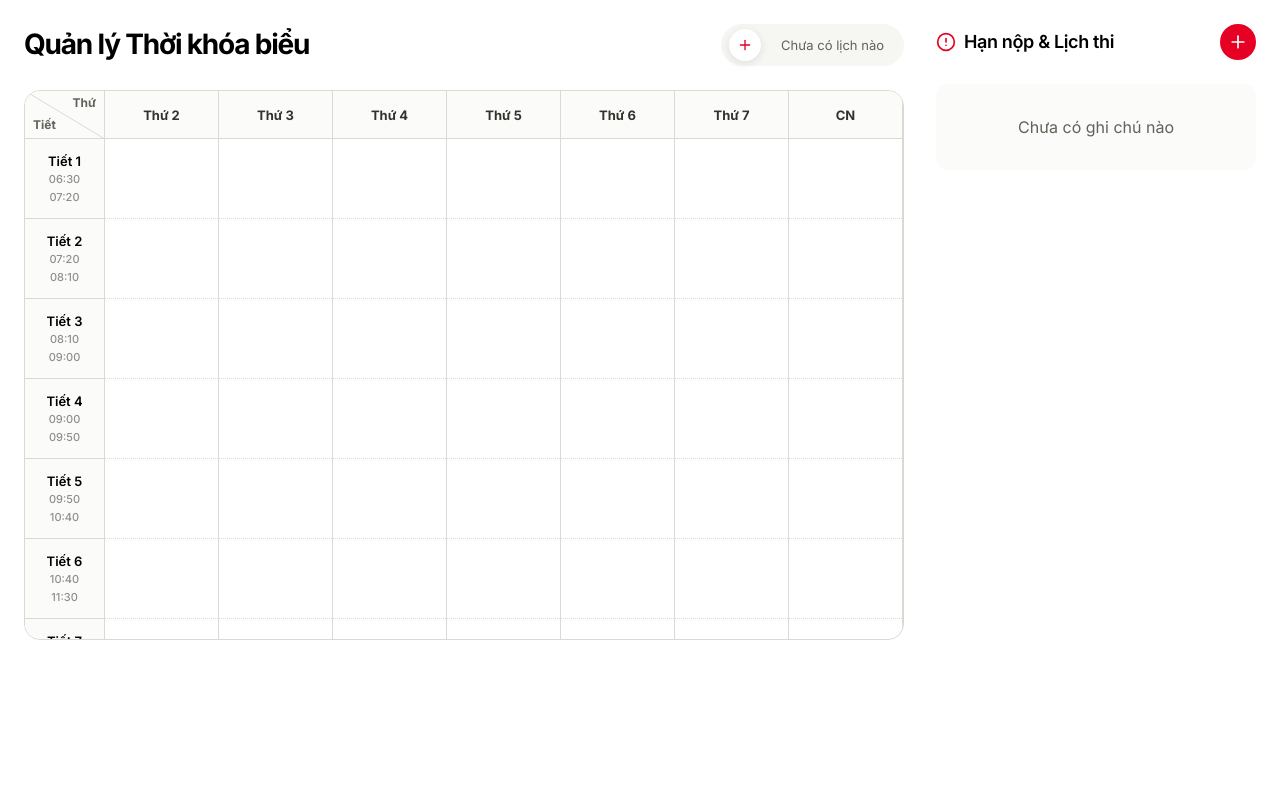
Test: Timetable — deadlines (study notes) › deadline_plus_opens_modal_and_Hủy_closes
The image size is (1280, 800).
Expected: the heading "Quản lý Thời khóa biểu" is shown, [24, 28, 309, 62]
Click the button without text next to "Hạn nộp & Lịch thi" at (1238, 42), box [1220, 24, 1256, 60]
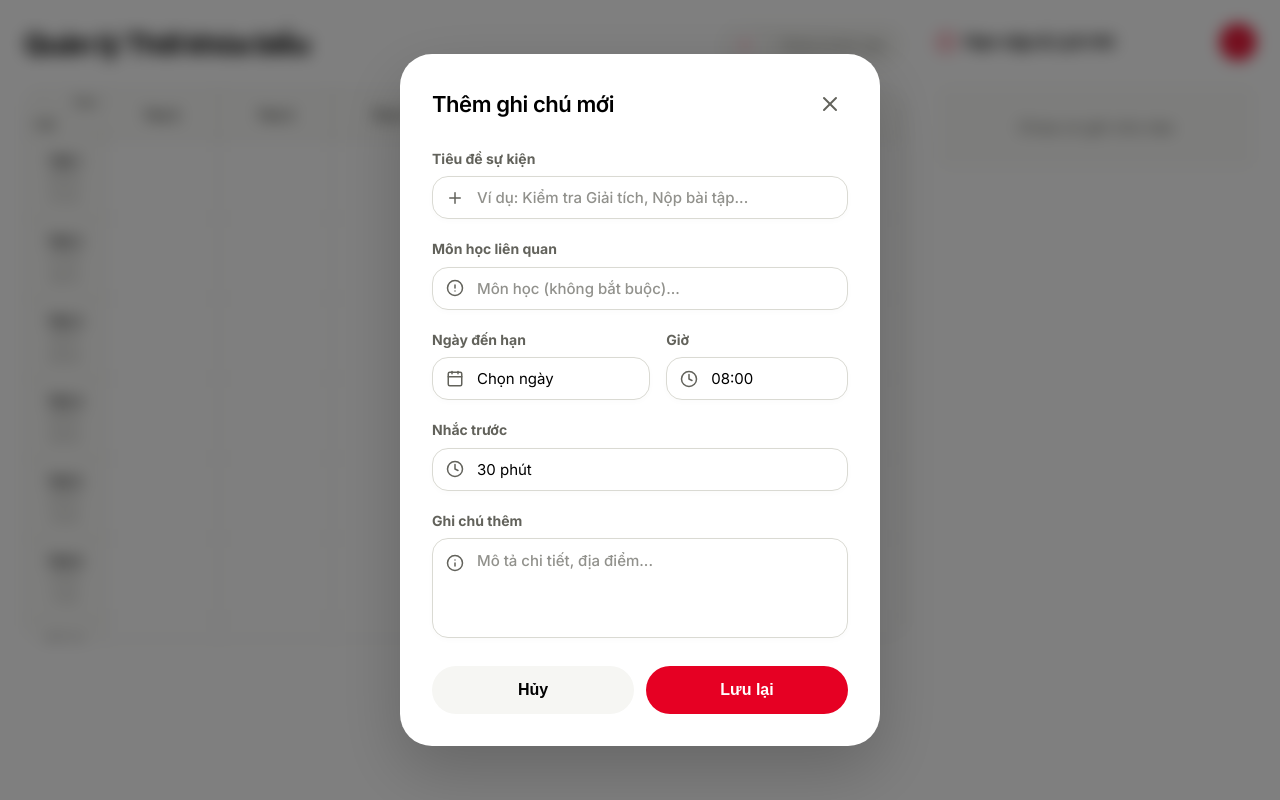
Result: the heading "Thêm ghi chú mới" is shown at [432, 91, 614, 119]
Click the button "Hủy" at (533, 690), box [432, 666, 634, 714]
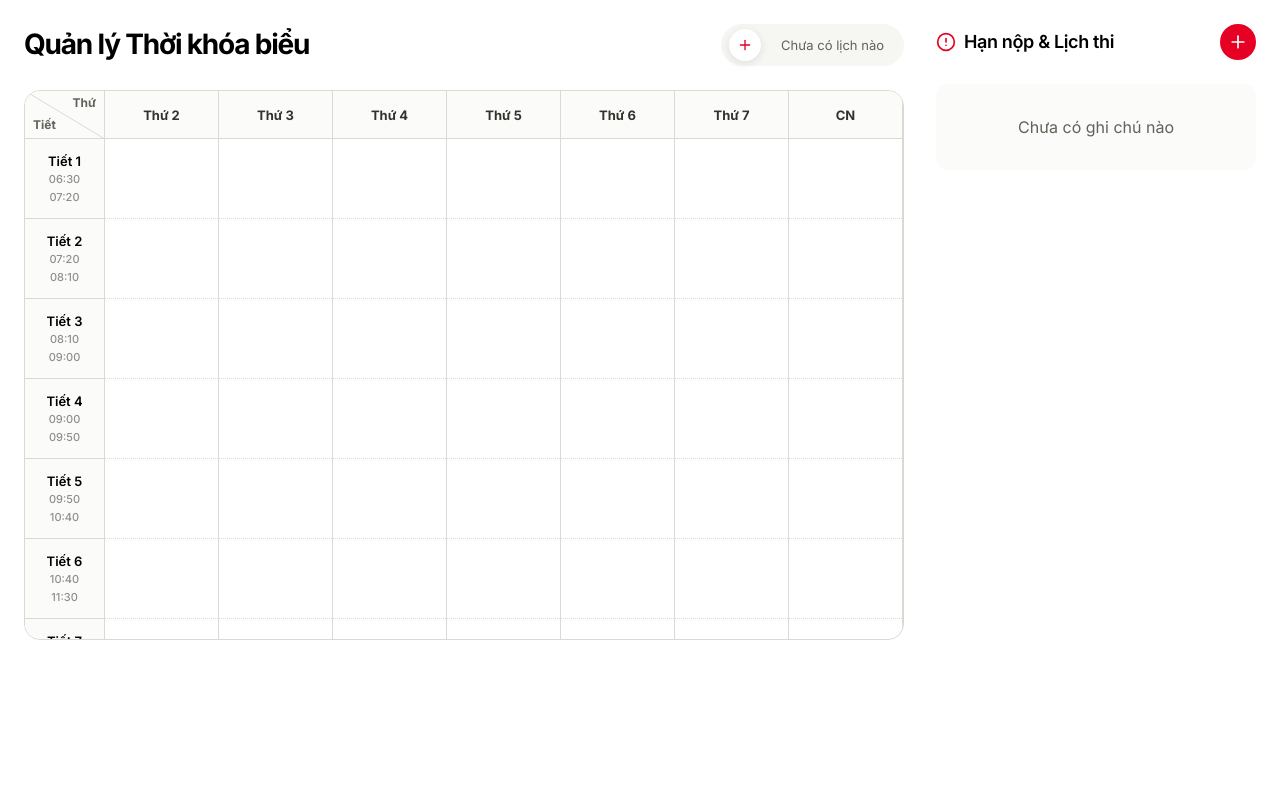
Result: the heading "Thêm ghi chú mới" is gone
